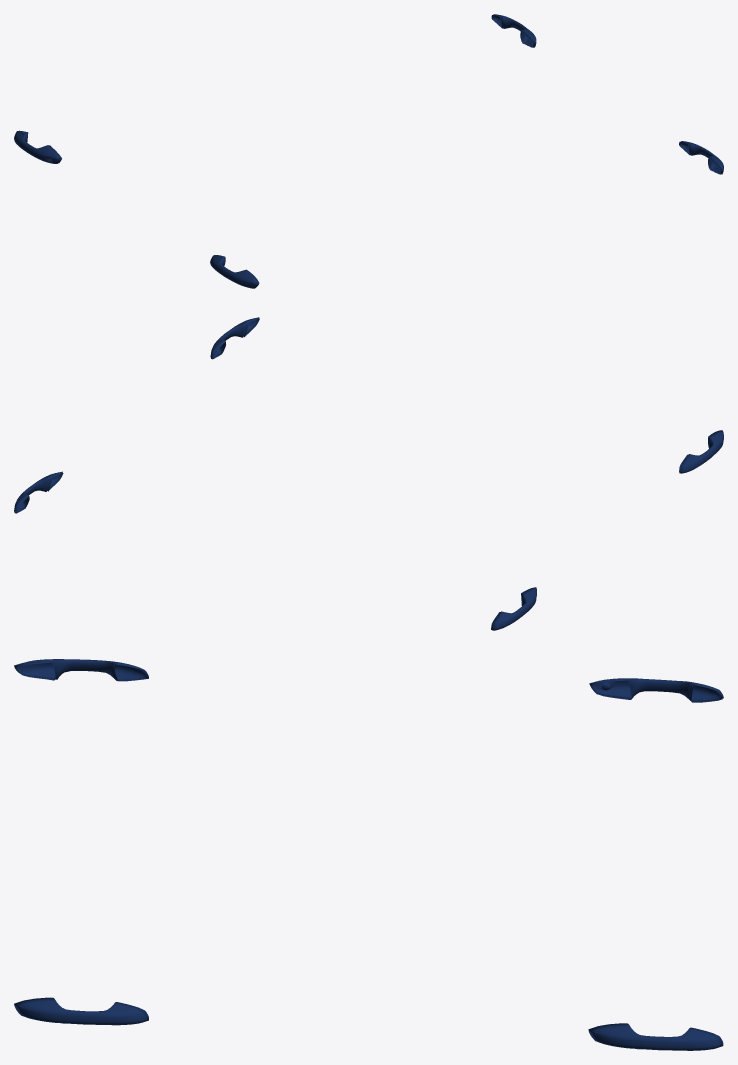
The model's file is DHL.glb.
3 renders of one model, top to bottom at view 1: azimuth 30°, elevation 25°; view 2: azimuth 150°, elevation 25°; view 3: azimuth 270°, elevation 25°, orthographic. The views are drawn at different scales.
Parts seen in each view (by area): view 1: DHL; view 2: DHL; view 3: DHL.
Part boxes in pixels (<box>): DHL: <box>14,14,723,288</box>; DHL: <box>14,317,723,630</box>; DHL: <box>14,659,723,1050</box>.
Bounding box in the file's own units: 1.68 × 0.1024 × 1.39.
